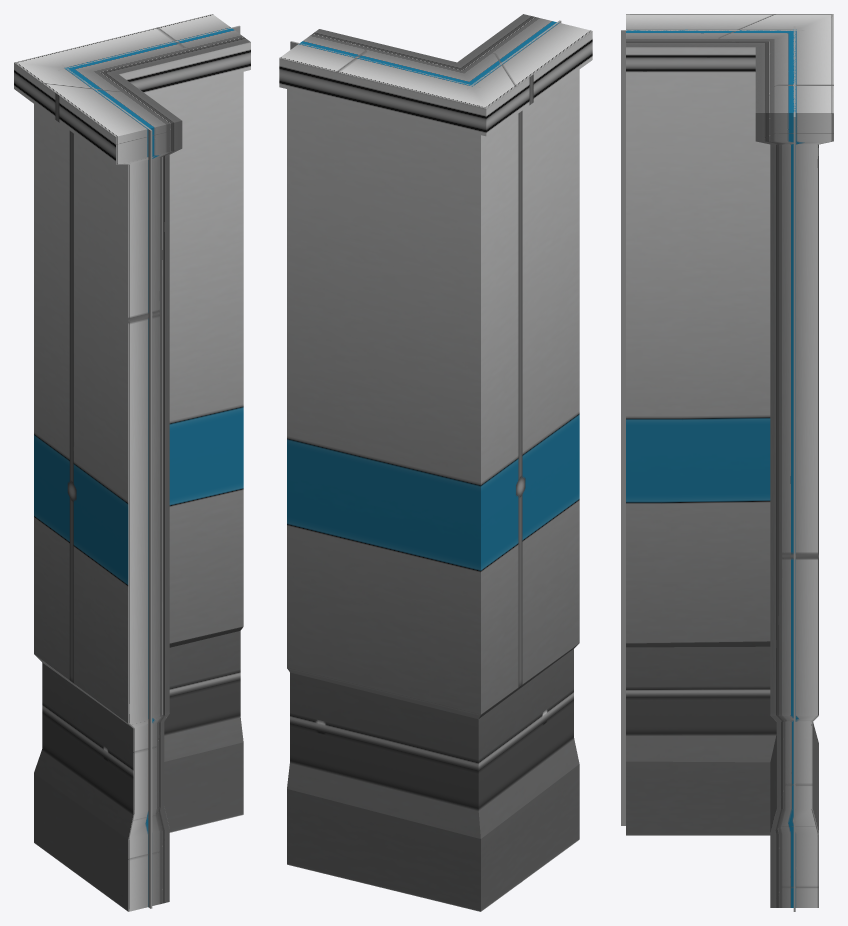
The model's file is CRR_LM_SU_BB.fbx.
The picture shows the model from 3 angles, left to right: view 1: azimuth 30°, elevation 25°; view 2: azimuth 150°, elevation 25°; view 3: azimuth 270°, elevation 25°; orthographic projection. The views are drawn at different scales.
Visible parts, largest first — view 1: CRR_LM_SU_BB; view 2: CRR_LM_SU_BB; view 3: CRR_LM_SU_BB.
Part boxes in pixels (bbox=[...]): CRR_LM_SU_BB: bbox=[14, 14, 250, 911]; CRR_LM_SU_BB: bbox=[279, 14, 592, 911]; CRR_LM_SU_BB: bbox=[621, 14, 833, 911].
Bounding box in the file's own units: 1.25 × 4.5 × 1.09.
